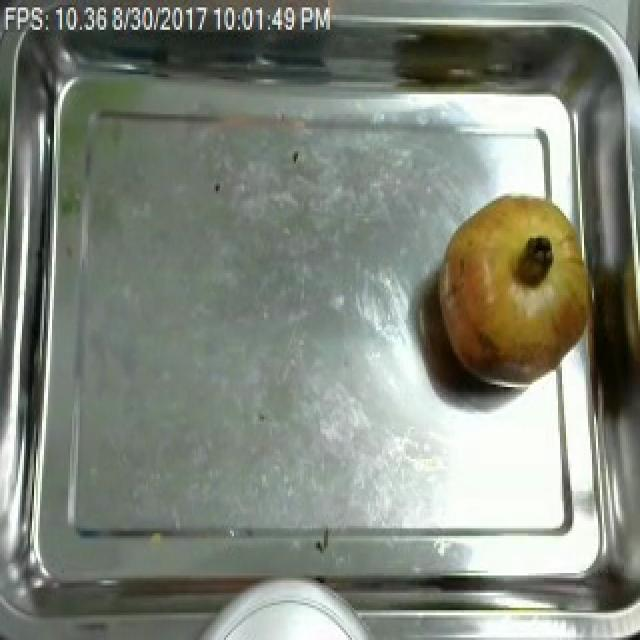fruit: (432, 178, 598, 400)
